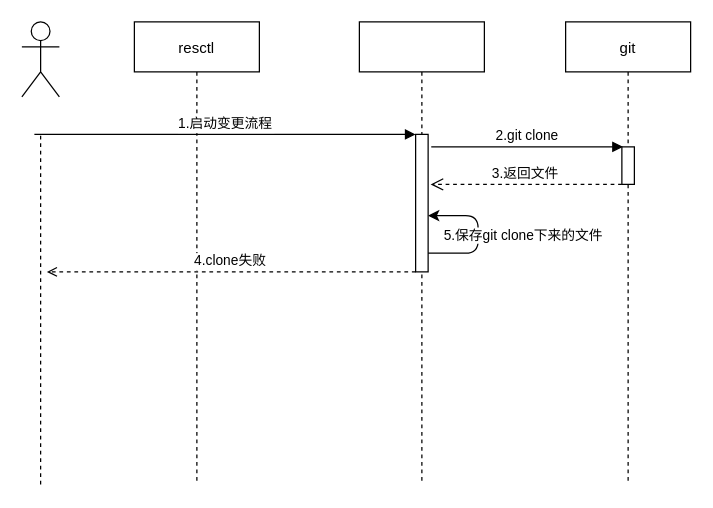
Image size: 713x508. Some labels were removed from this diagram. The centre of each missing label's shape, as x and y in pixels:
fs: the point at 421,252
用户: the point at 40,59
